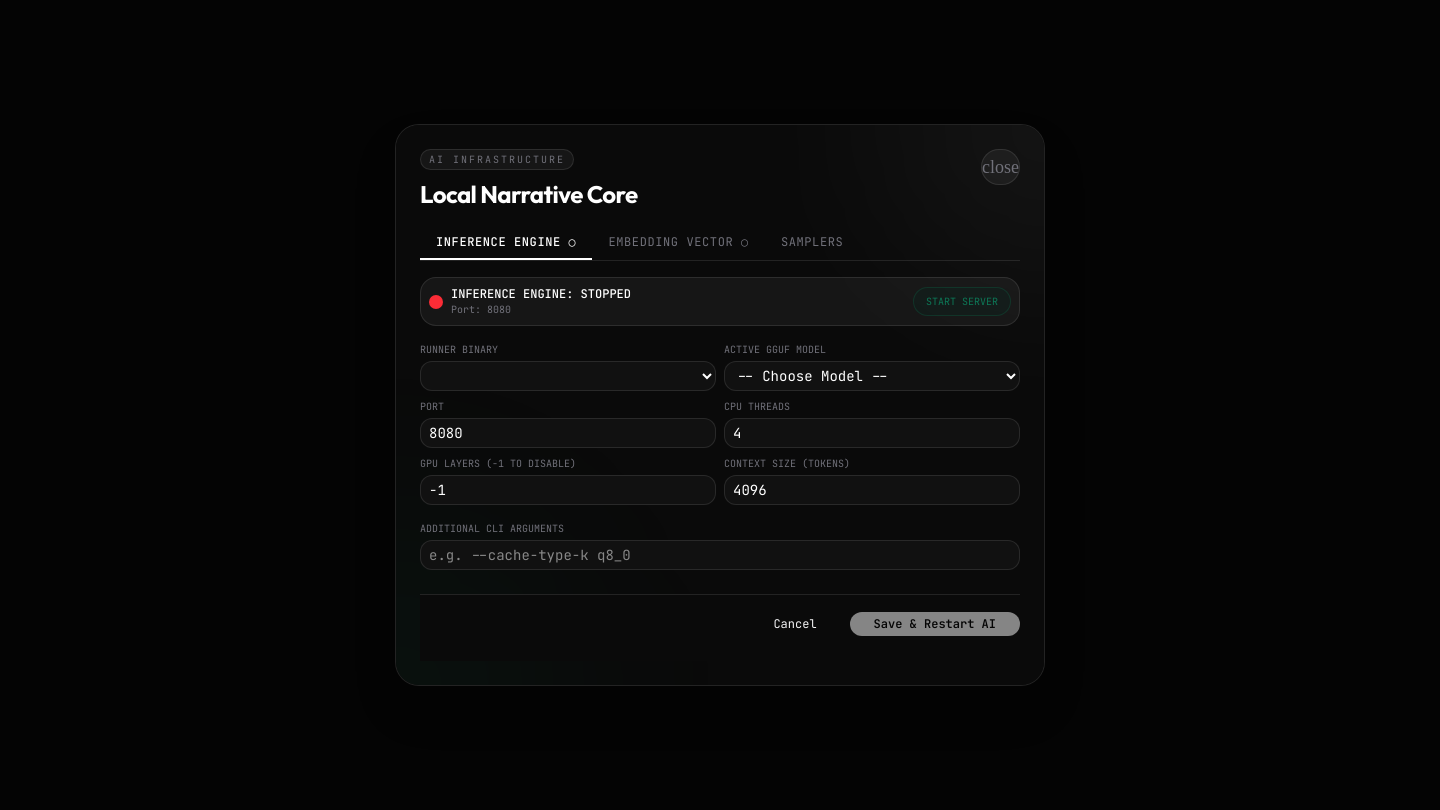
Test: SettingsModal › GPU layers regression (clearing/invalid input resets to -1) › resets the embedding GPU layers field instead of leaking NaN
Expected: the text "Inference Engine: STOPPED" is shown, [451,286,631,302]
Click the button "Embedding Vector ○".
click(679, 243)  # box [592,226,765,260]
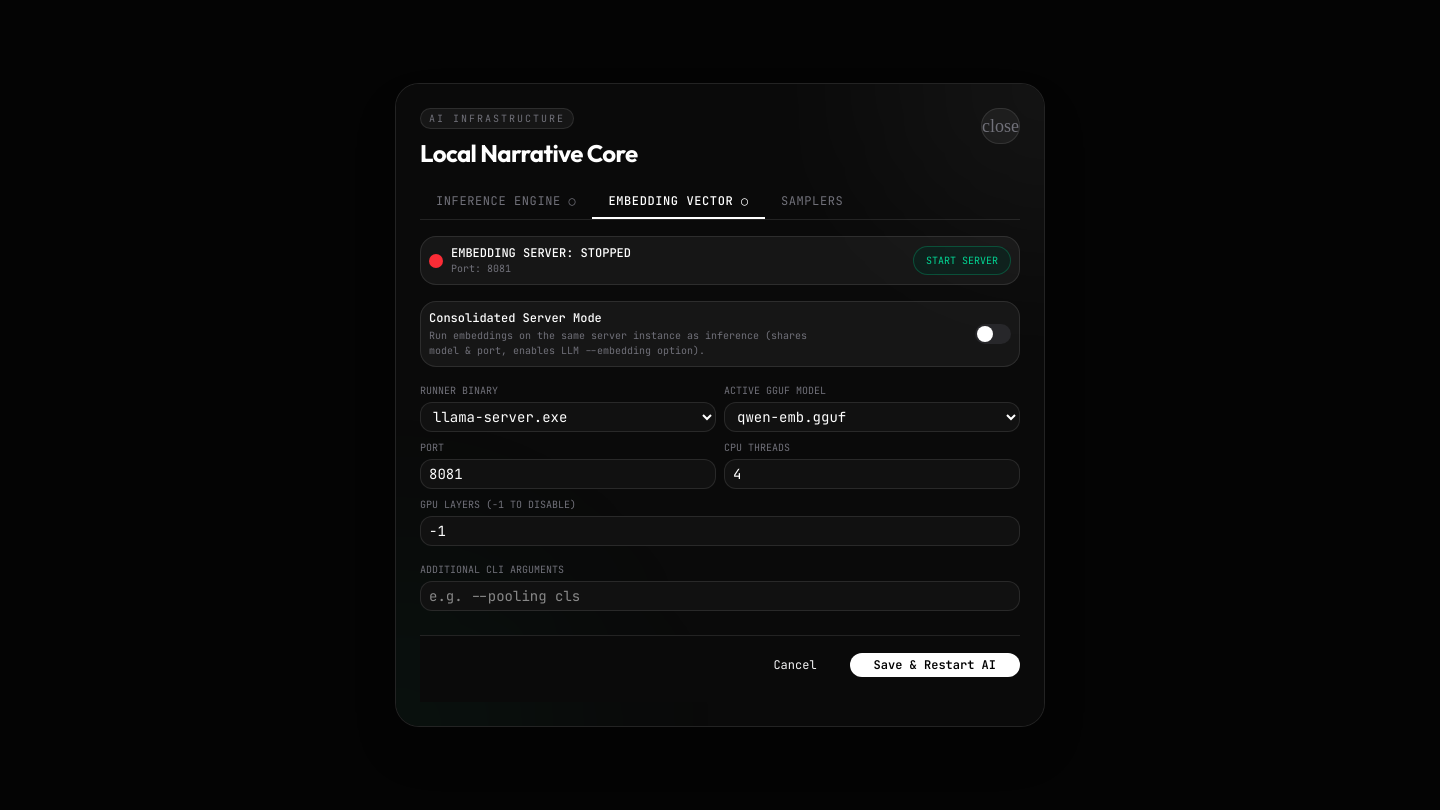
Expected: the text "Embedding Server: STOPPED" is shown, [451,245,631,261]
Expected: the number field labelled "GPU Layers (-1 to disable)" holds "-1"
Replace the text in the number field labelled "GPU Layers (-1 to disable)" with "6" at (720, 531), box [420,516,1020,546]
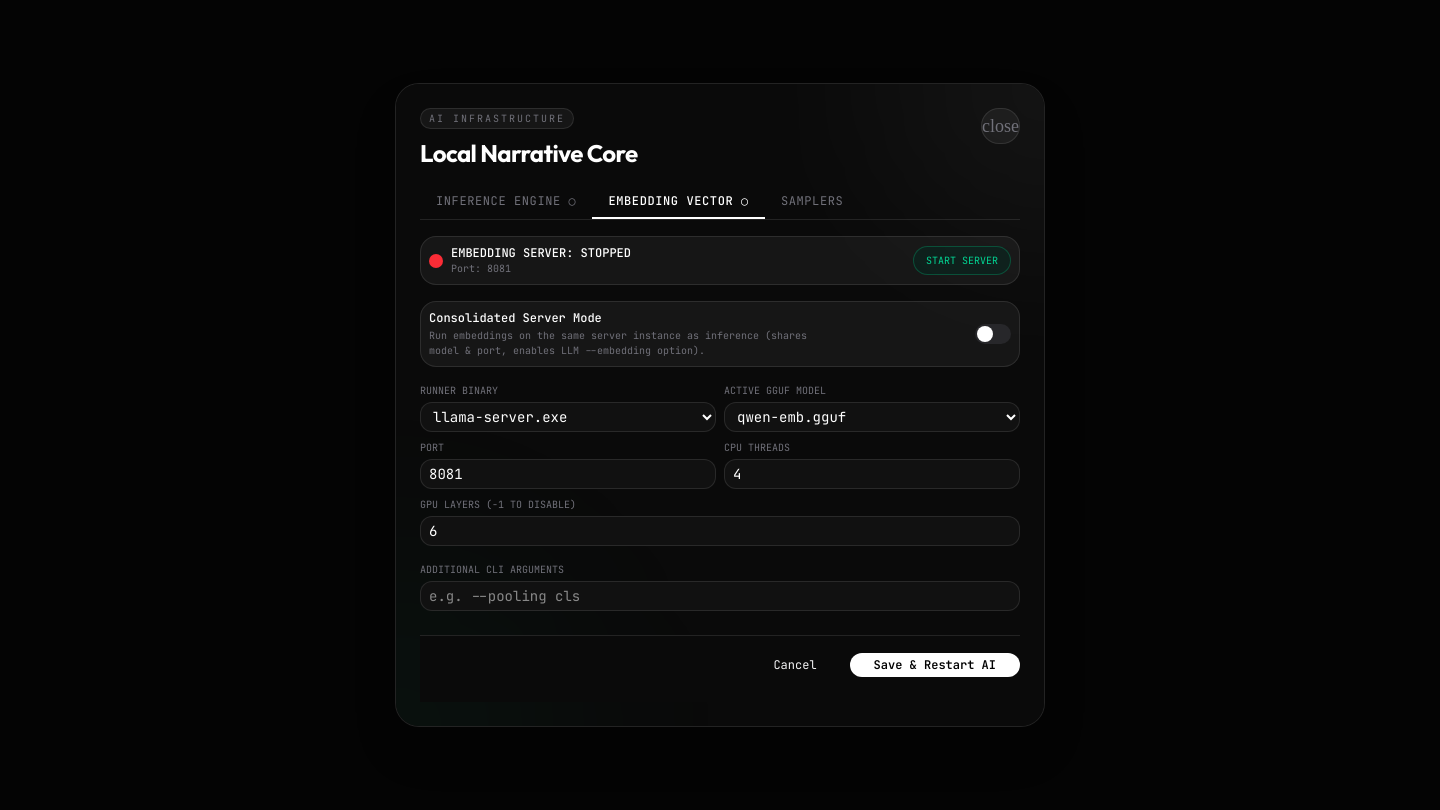
Clear the number field labelled "GPU Layers (-1 to disable)" at (720, 531), box [420,516,1020,546]
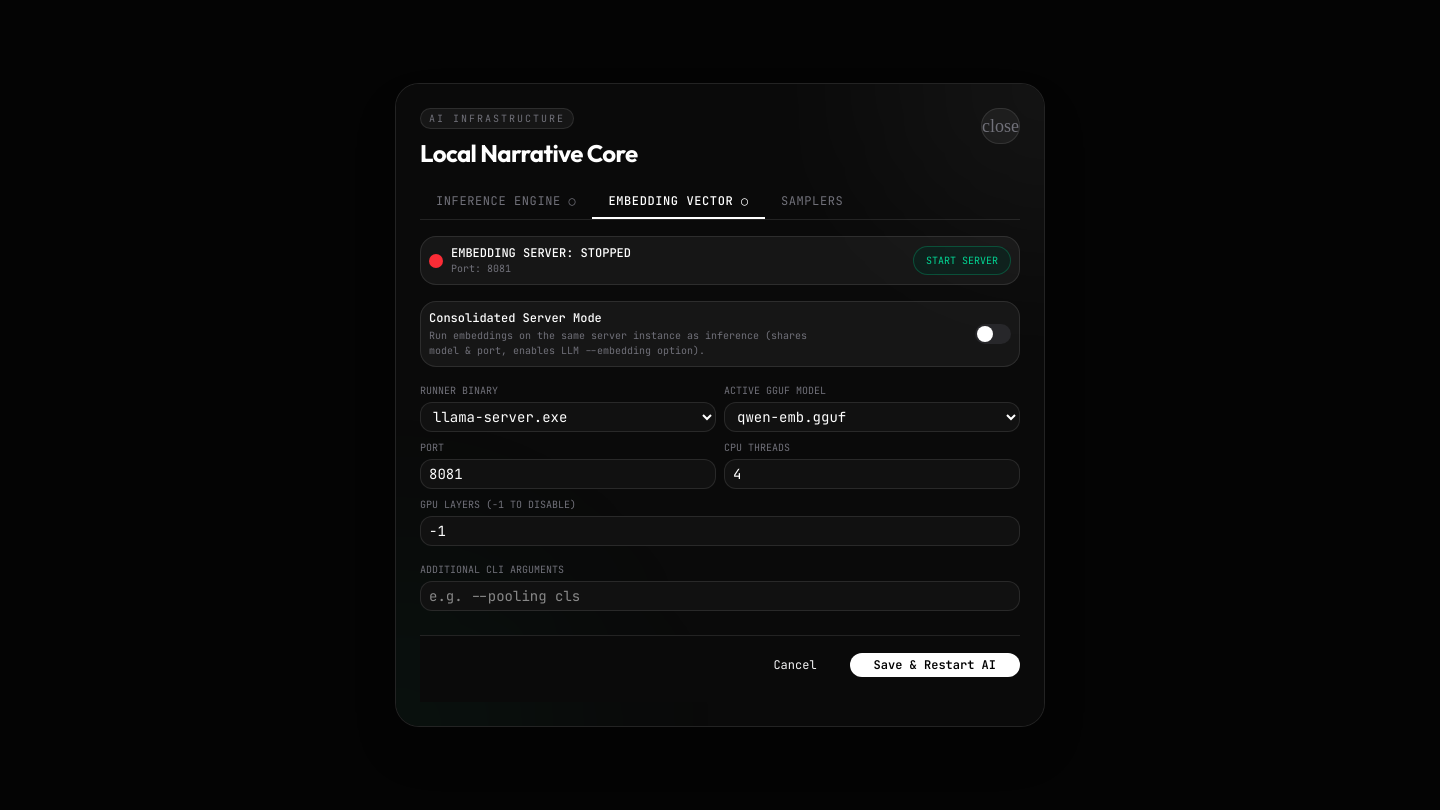
Expected: the number field labelled "GPU Layers (-1 to disable)" holds "-1"
Replace the text in the number field labelled "GPU Layers (-1 to disable)" with "9" at (720, 531), box [420,516,1020,546]
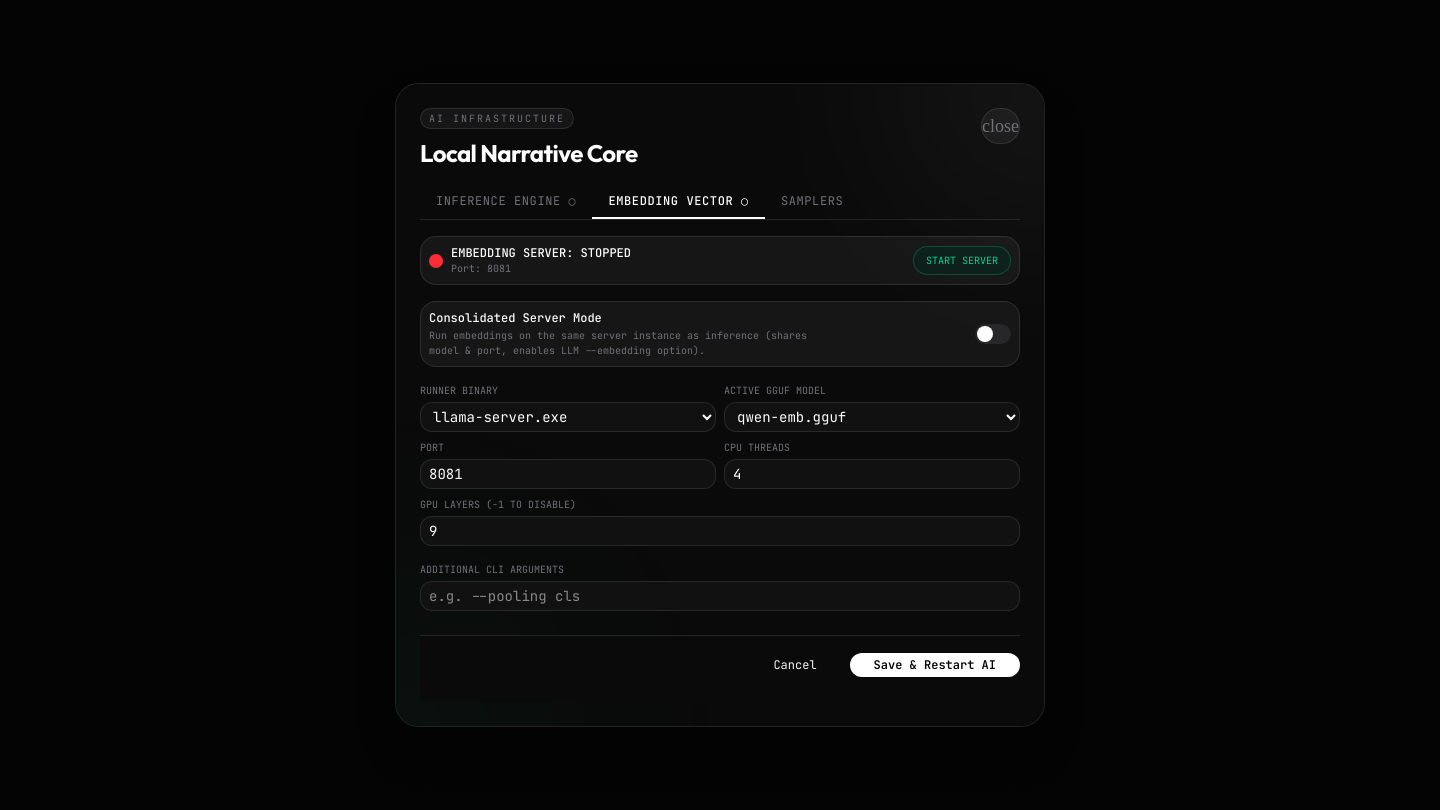
Replace the text in the number field labelled "GPU Layers (-1 to disable)" with "nope" at (720, 531), box [420,516,1020,546]
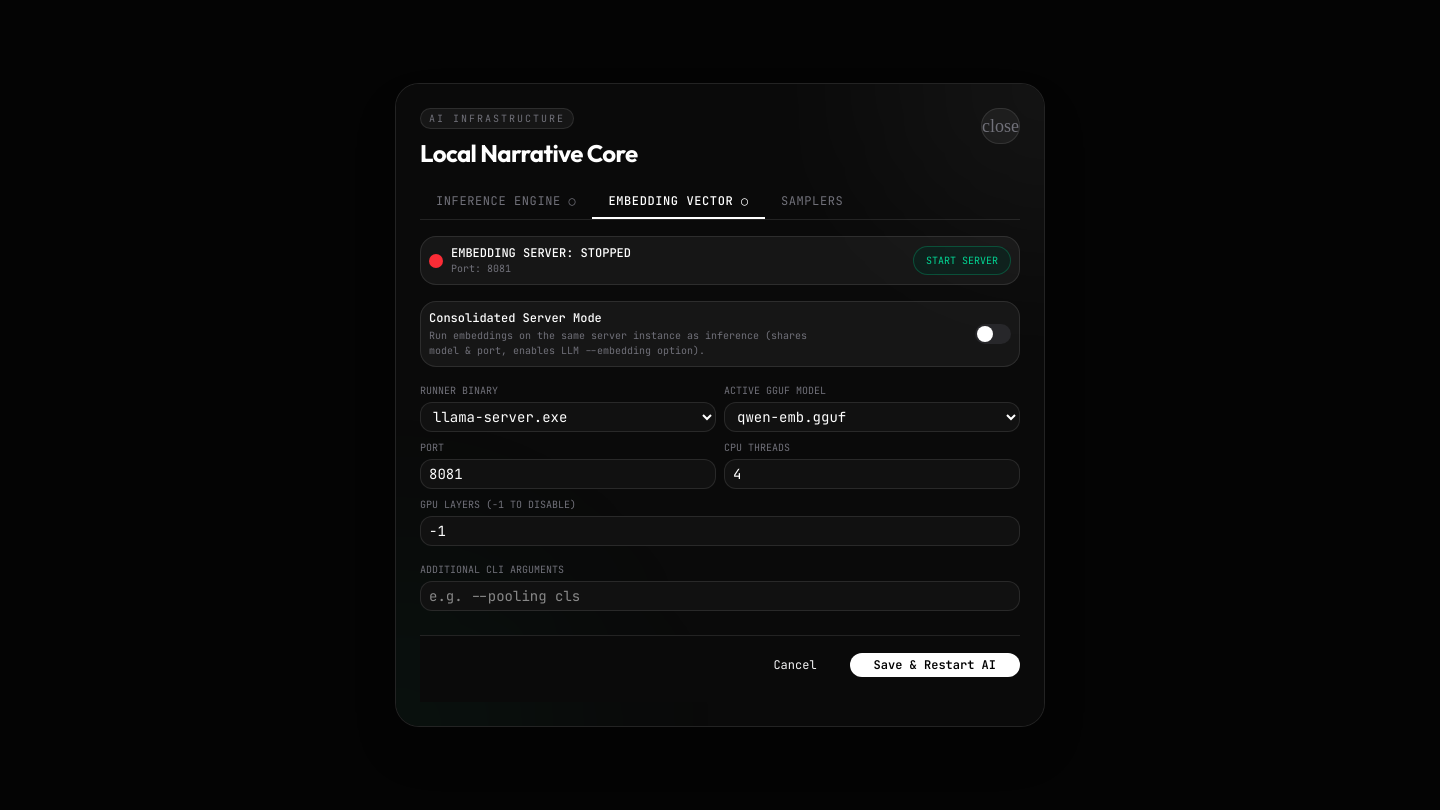
Expected: the number field labelled "GPU Layers (-1 to disable)" holds "-1", [420,516,1020,546]
